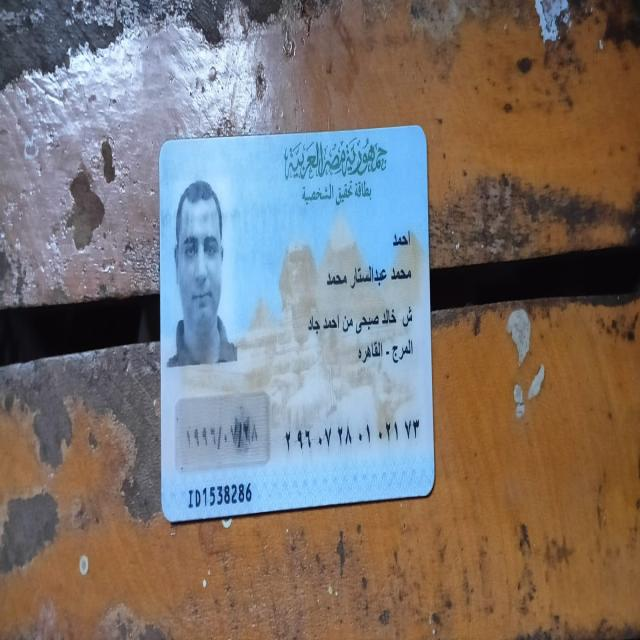ID-cards: (152, 116, 439, 530)
